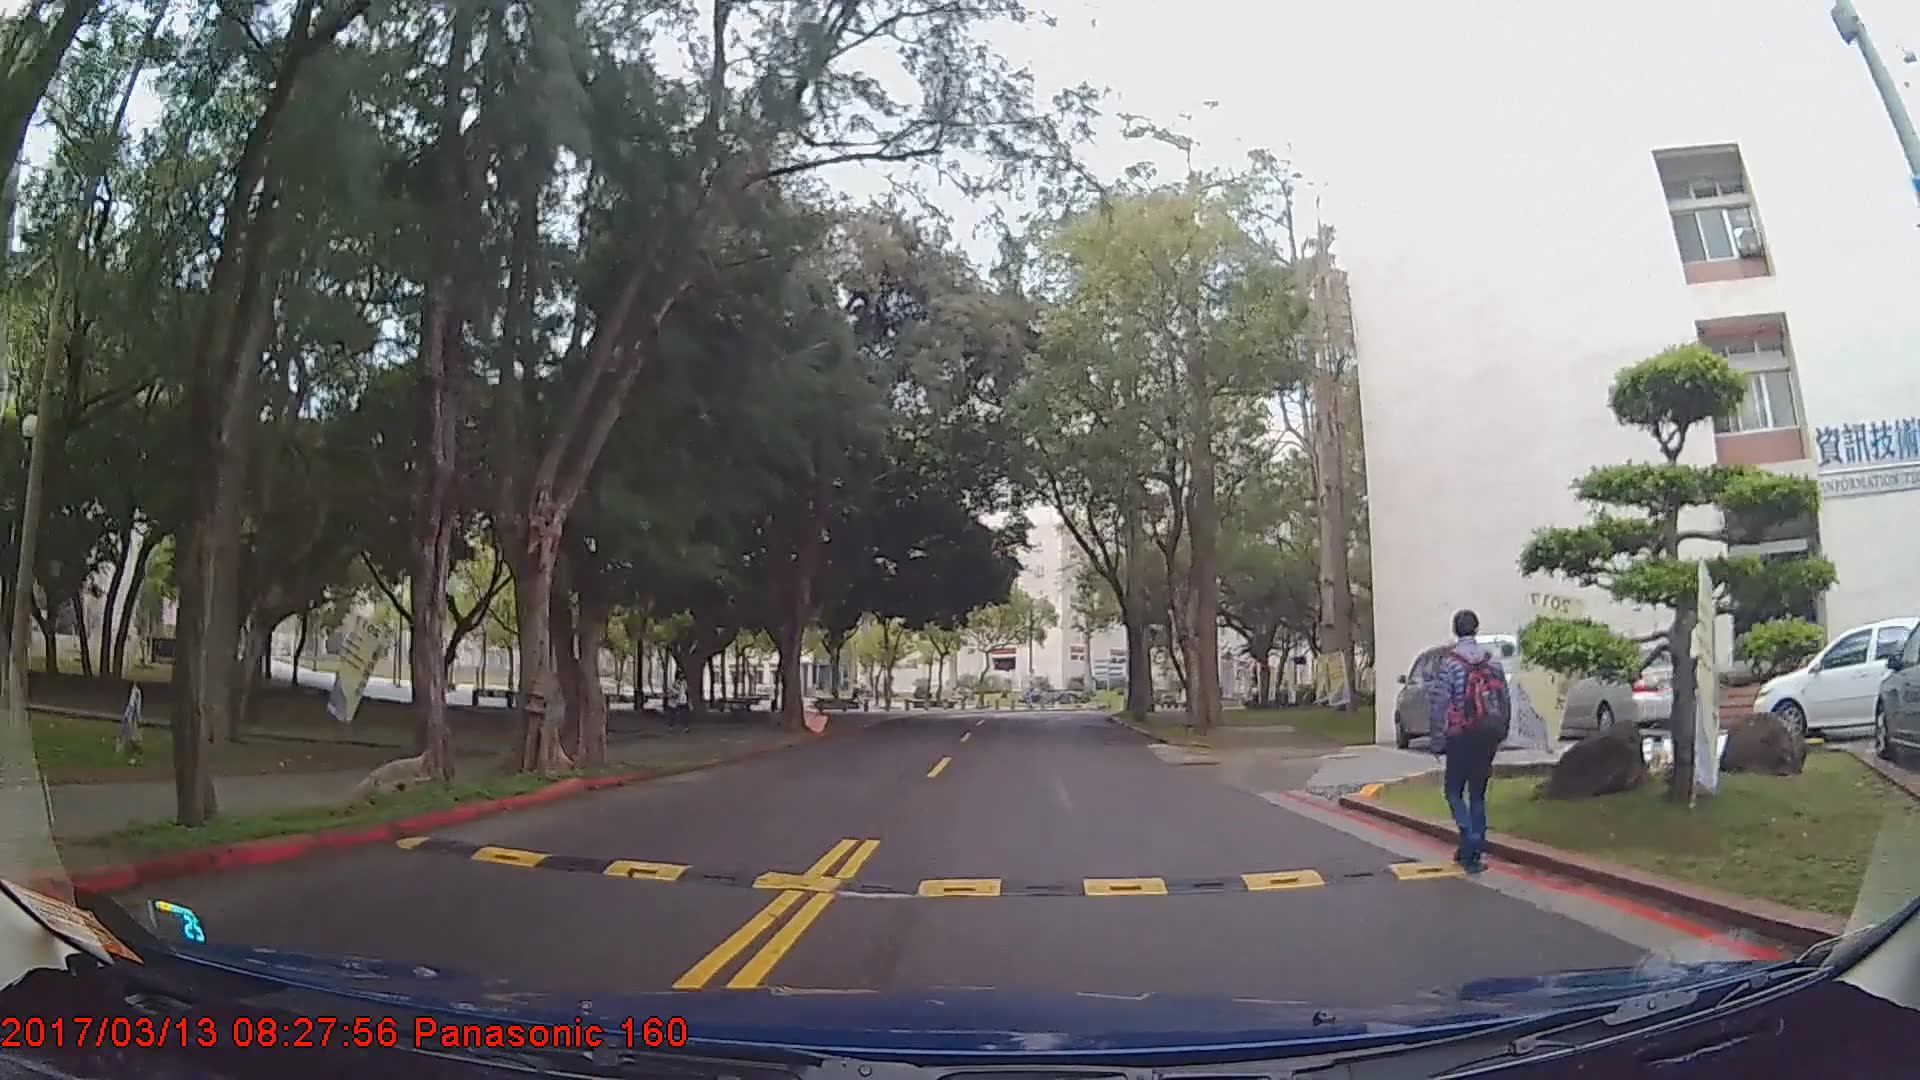pedestrian: (1432, 608, 1512, 875), (666, 667, 696, 733)
vehicle: (1748, 616, 1920, 744), (1394, 636, 1526, 750)
